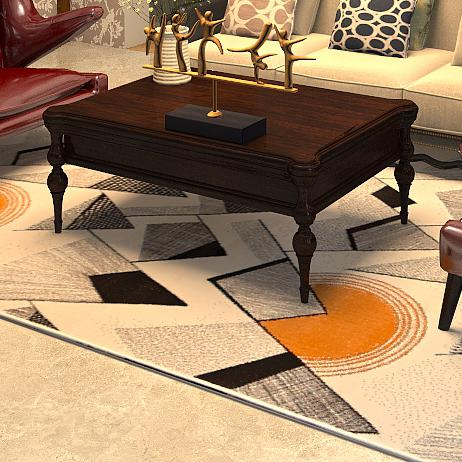table: (44, 68, 416, 293)
